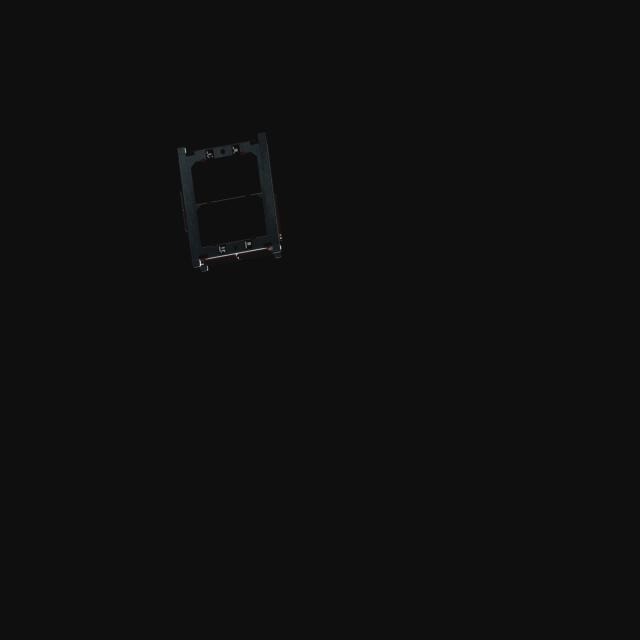satellite: (164, 127, 295, 273)
